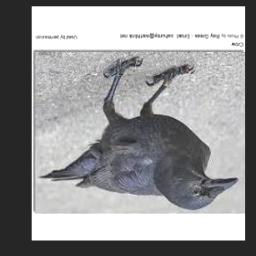Crow: (38, 58, 238, 210)
